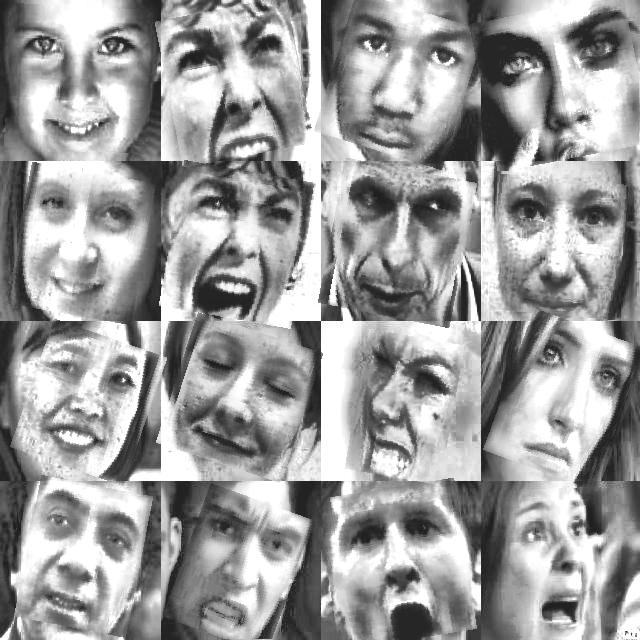angry: (475, 0, 640, 164), (325, 164, 471, 322), (172, 490, 304, 640)
fear: (321, 482, 472, 640), (162, 2, 308, 162), (165, 166, 311, 324), (502, 488, 600, 638)
happy: (165, 320, 315, 474), (6, 5, 152, 153), (13, 167, 151, 321), (20, 327, 158, 479), (491, 177, 626, 317), (350, 333, 459, 481)
neutral: (494, 316, 638, 483), (21, 480, 147, 634)
sad: (323, 0, 475, 162)
